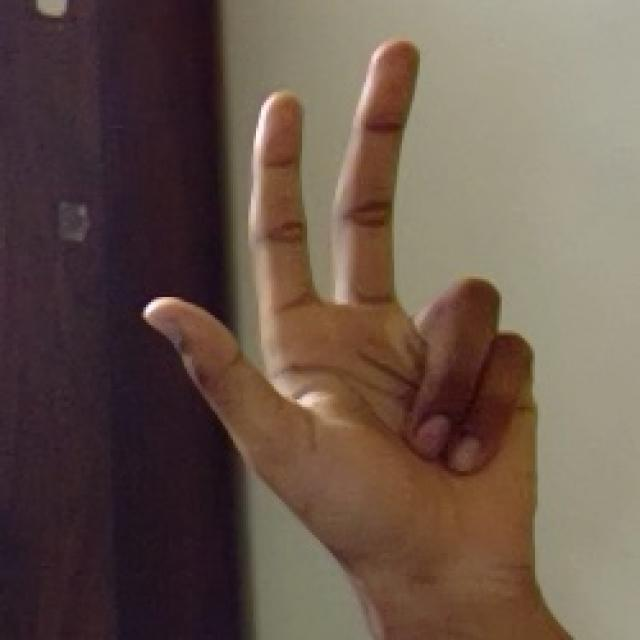Numeric-3: (143, 33, 538, 588)
